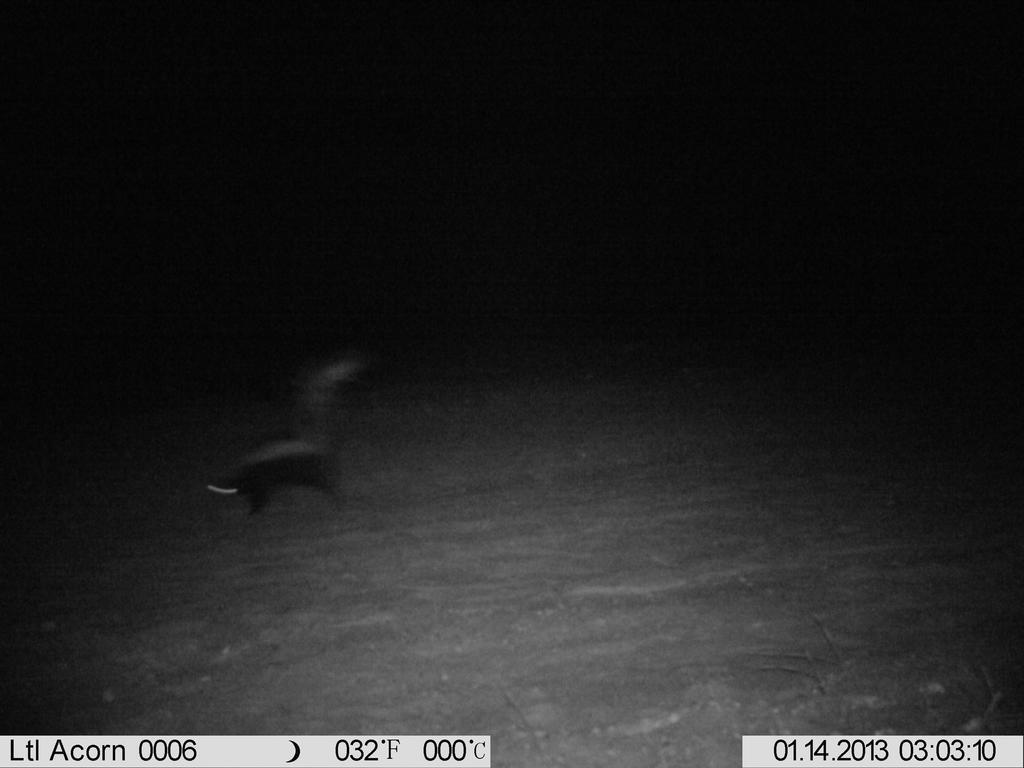skunk: (203, 342, 389, 530)
